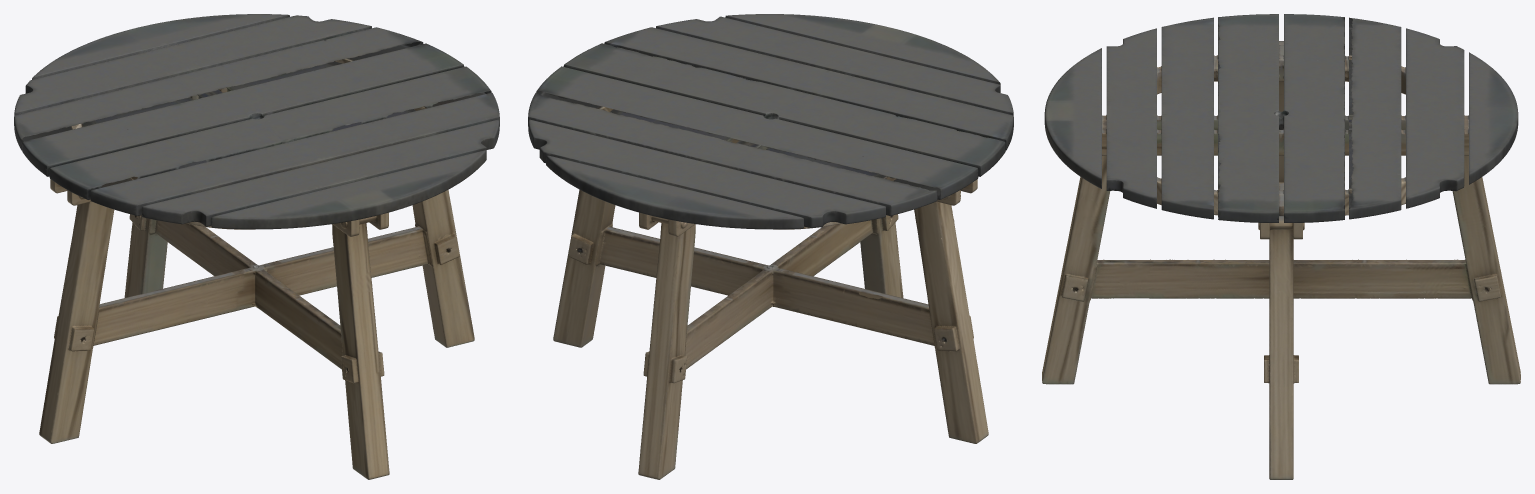
The model's file is Meshy_AI_Eco_Ivan_Round_120cm__0324203037_texture-v2.glb.
The picture shows the model from 3 angles, left to right: view 1: azimuth 30°, elevation 25°; view 2: azimuth 150°, elevation 25°; view 3: azimuth 270°, elevation 25°; orthographic projection. The views are drawn at different scales.
Parts seen in each view (by area): view 1: Mesh_0; view 2: Mesh_0; view 3: Mesh_0.
Boxes of the visible parts, x1,y1,x2,y2 form: Mesh_0: (14, 14, 499, 479); Mesh_0: (528, 14, 1013, 479); Mesh_0: (1042, 14, 1520, 479).
Bounding box in the file's own units: 1.21 × 0.74 × 1.21.
1 material, 1 textured.
